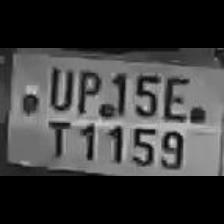1: (100, 66, 128, 120), (97, 118, 125, 162), (72, 119, 98, 161)
5: (128, 70, 160, 118), (124, 122, 154, 167)
9: (155, 124, 184, 170)
E: (160, 70, 188, 120)
P: (72, 65, 102, 115)
T: (42, 117, 72, 159)
U: (43, 62, 74, 112)
